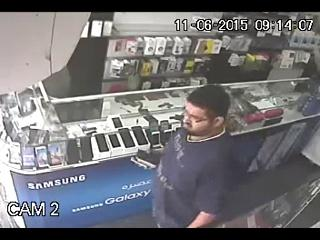Normal: (151, 84, 242, 228)
